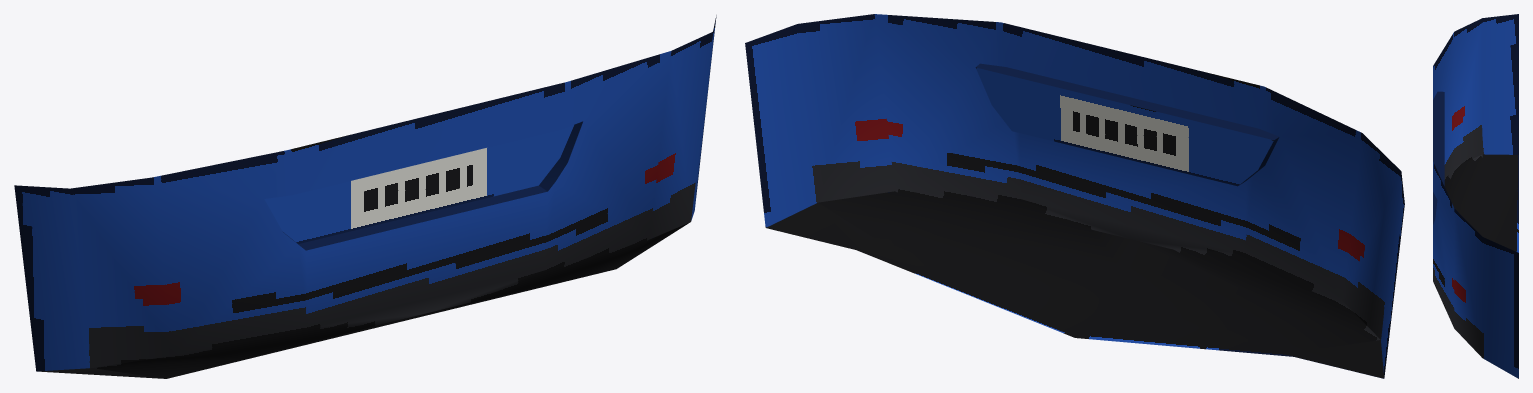
Rendered from bumper_R_stock.glb.
3 renders of one model, left to right at view 1: azimuth 30°, elevation 25°; view 2: azimuth 150°, elevation 25°; view 3: azimuth 270°, elevation 25°, orthographic. The views are drawn at different scales.
Parts seen in each view (by area): view 1: bumper_R_stock; view 2: bumper_R_stock; view 3: bumper_R_stock.
Boxes of the visible parts, bbox=[...] form: bumper_R_stock: bbox=[14, 15, 716, 378]; bumper_R_stock: bbox=[745, 14, 1404, 378]; bumper_R_stock: bbox=[1433, 14, 1518, 378].
Size of the model in its own units: 1.6 by 0.56 by 0.243.
1 material, 1 textured.
